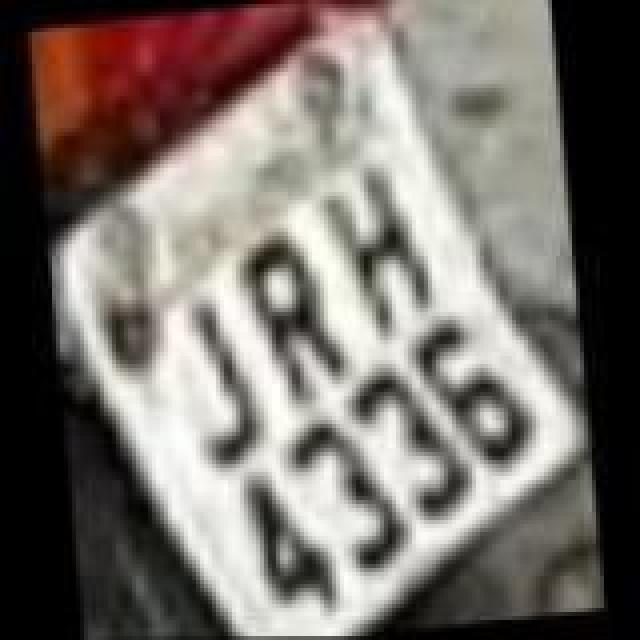3: (350, 356, 478, 528), (284, 408, 412, 576)
4: (250, 466, 346, 618)
6: (404, 310, 536, 474)
H: (312, 160, 440, 344)
J: (174, 290, 270, 466)
R: (232, 222, 352, 406)
